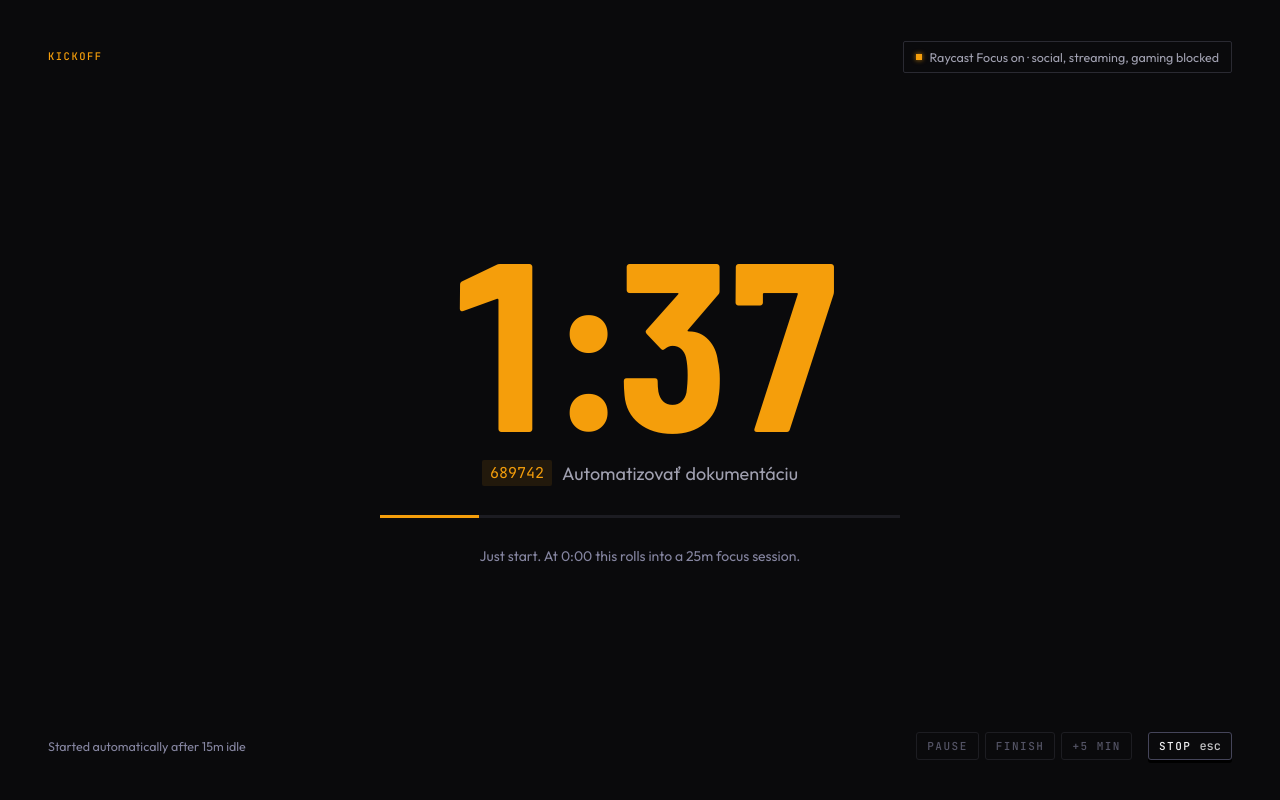
Test: KickoffTakeover — secondary row (K3 override): the same handlers Now uses › Pause → pauseMainTimer and the store pauses
What coordinates should you click on to do the following:
click the button "Pause"
I would click on:
 (948, 746)
Its box is [916,732,979,760].
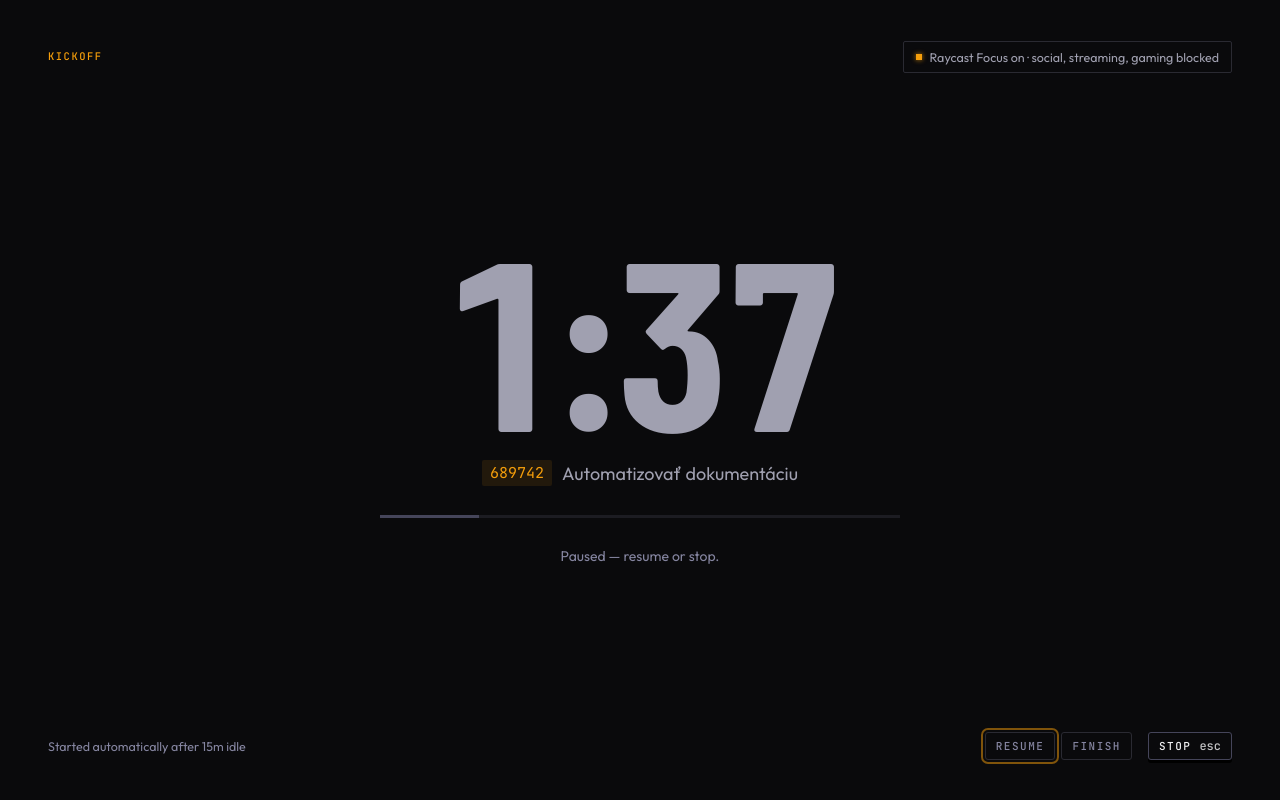
Check: the button "Resume" is shown, box [985,732,1055,760]
